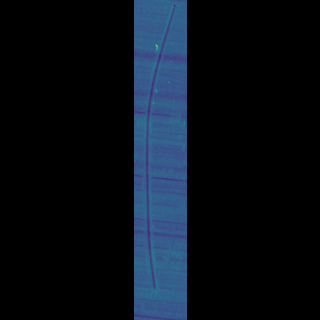Loch: (157, 2, 163, 313)
